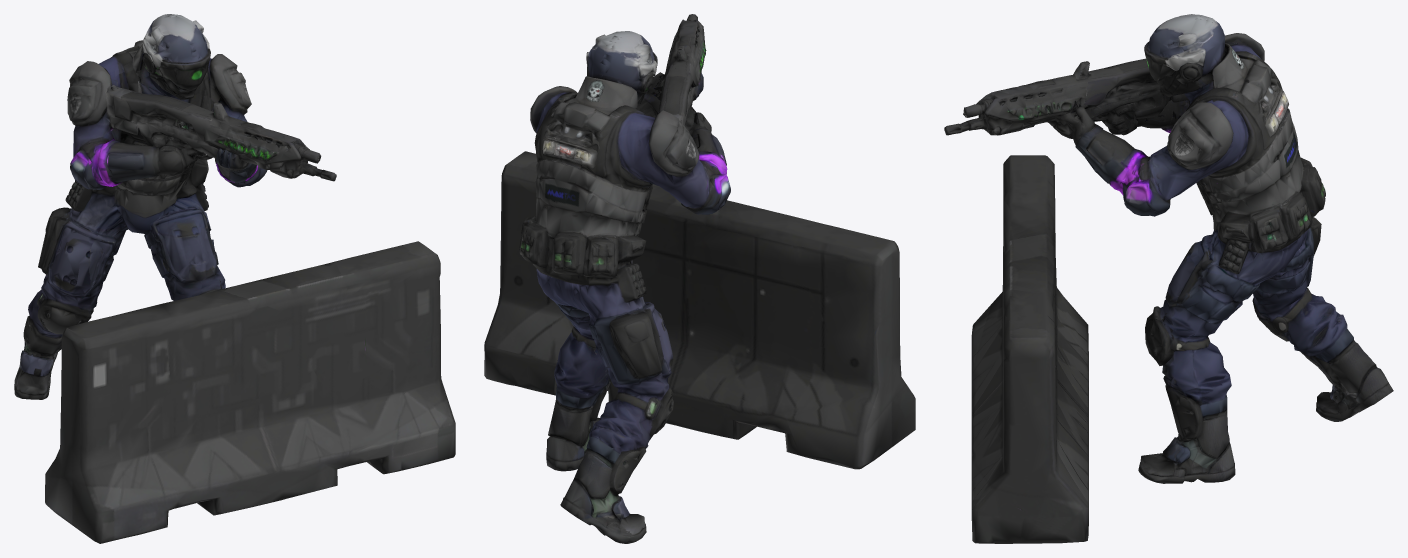
The model's file is operator.glb.
The picture shows the model from 3 angles, left to right: view 1: azimuth 30°, elevation 25°; view 2: azimuth 150°, elevation 25°; view 3: azimuth 270°, elevation 25°; orthographic projection. The views are drawn at different scales.
Visible parts, largest first — view 1: Object_2; view 2: Object_2; view 3: Object_2.
Boxes of the visible parts, x1,y1,x2,y2 form: Object_2: [14, 14, 455, 543]; Object_2: [484, 14, 915, 543]; Object_2: [944, 14, 1393, 543].
Bounding box in the file's own units: 1.75 × 1.9 × 1.77.
Materials: 1 (1 with a texture image).
